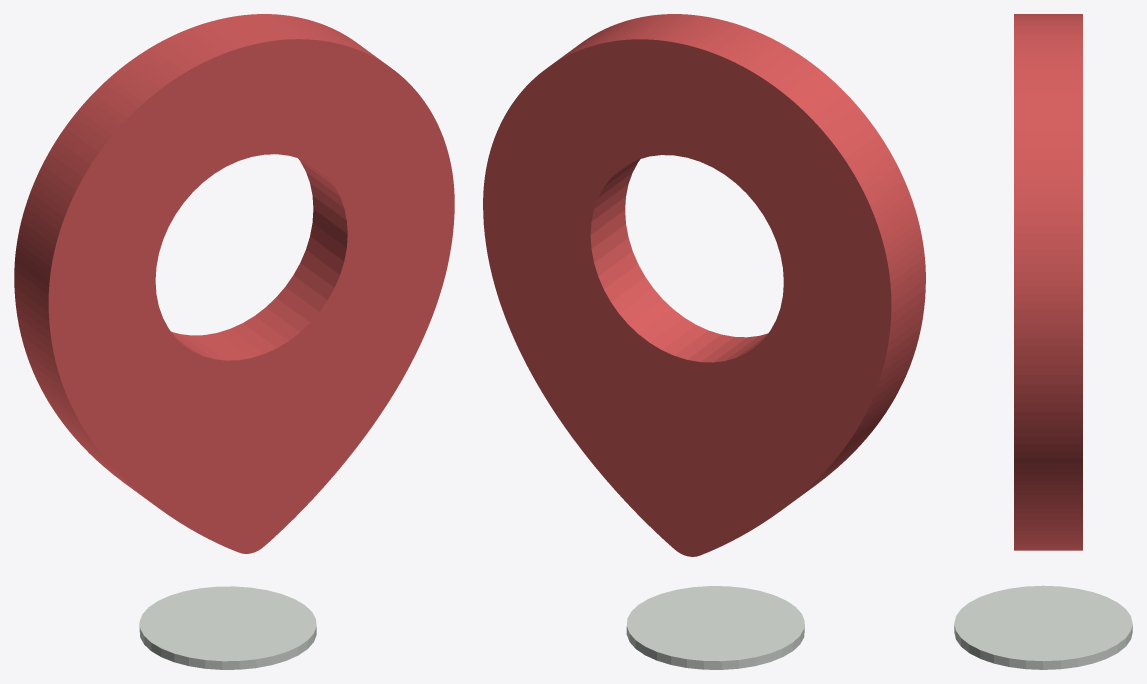
Rendered from map pin.fbx.
3 views of the same model, side by side, from view 1: azimuth 30°, elevation 25°; view 2: azimuth 150°, elevation 25°; view 3: azimuth 270°, elevation 25° (orthographic).
Visible parts, largest first — view 1: Curve; view 2: Curve; view 3: Curve.
Part boxes in pixels (x1,y1,x2,y2): Curve: (14, 14, 454, 669); Curve: (483, 14, 925, 669); Curve: (954, 14, 1132, 669).
Bounding box in the file's own units: 18.76 × 26.32 × 7.09.
